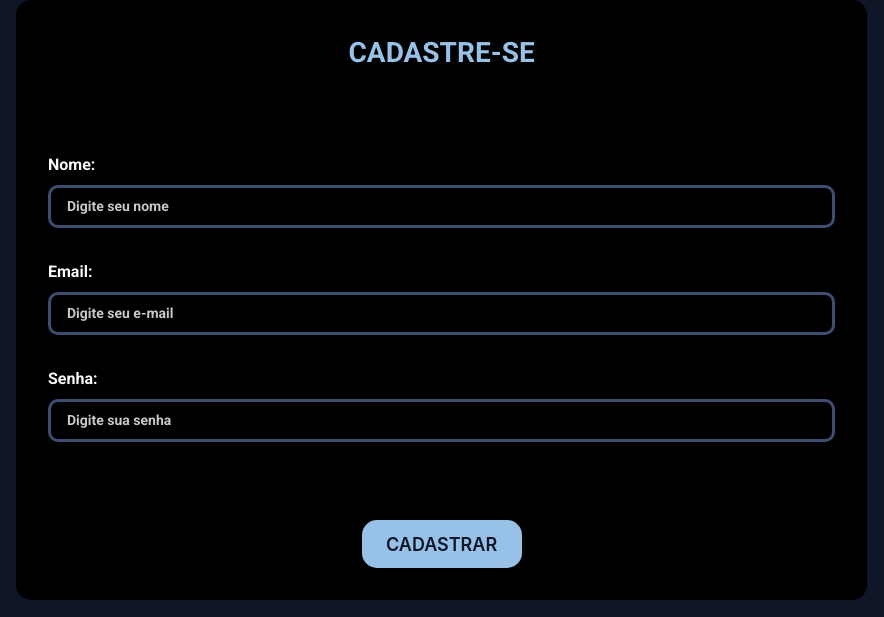
Register Component › should display error message for invalid email
In the field labelled "Nome:": (442, 206) [48,184,835,228], type "Valid Name"
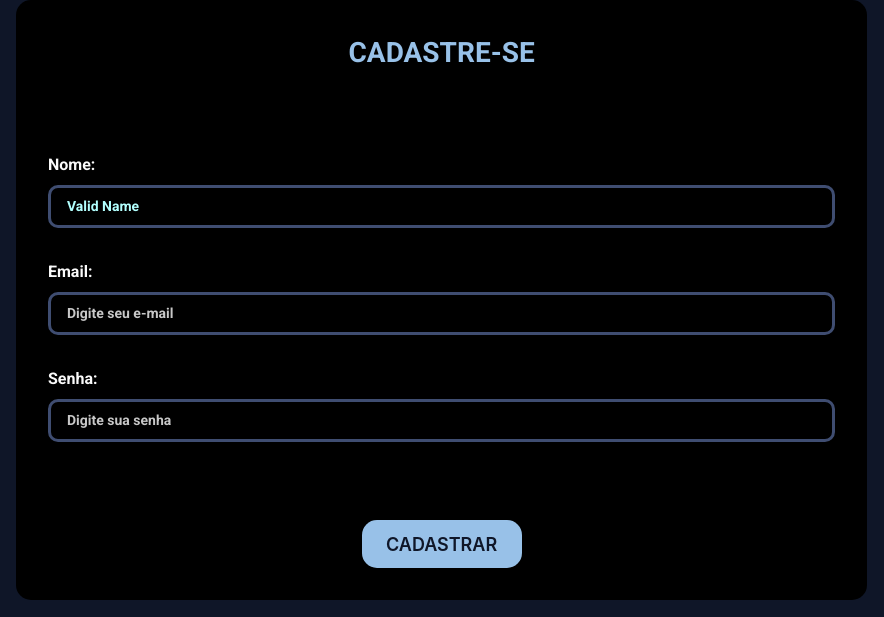
In the field labelled "Email:": (442, 313) [48,292,835,334], type "invalid-email@email.c"
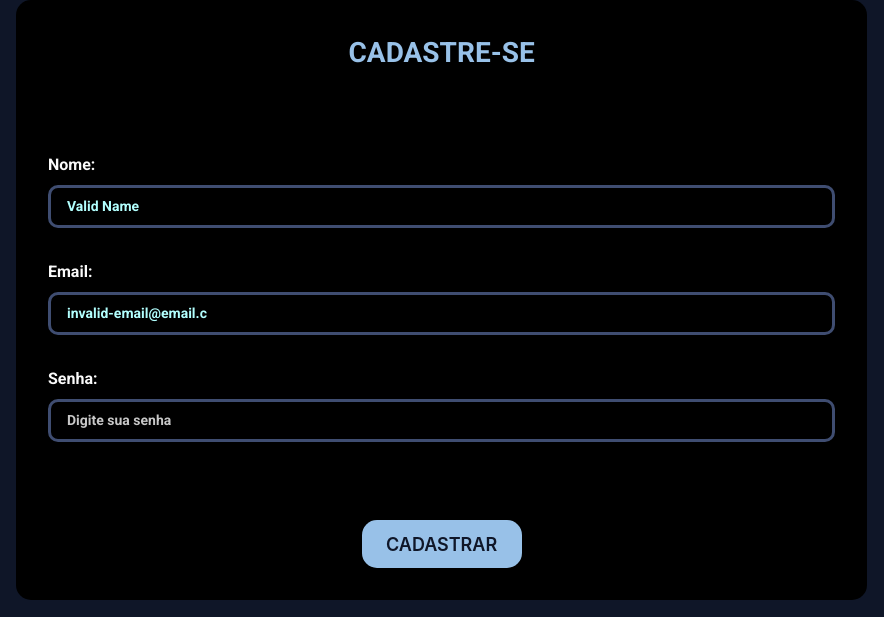
In the password field labelled "Senha:": (442, 420) [48,398,835,442], type "Password1"
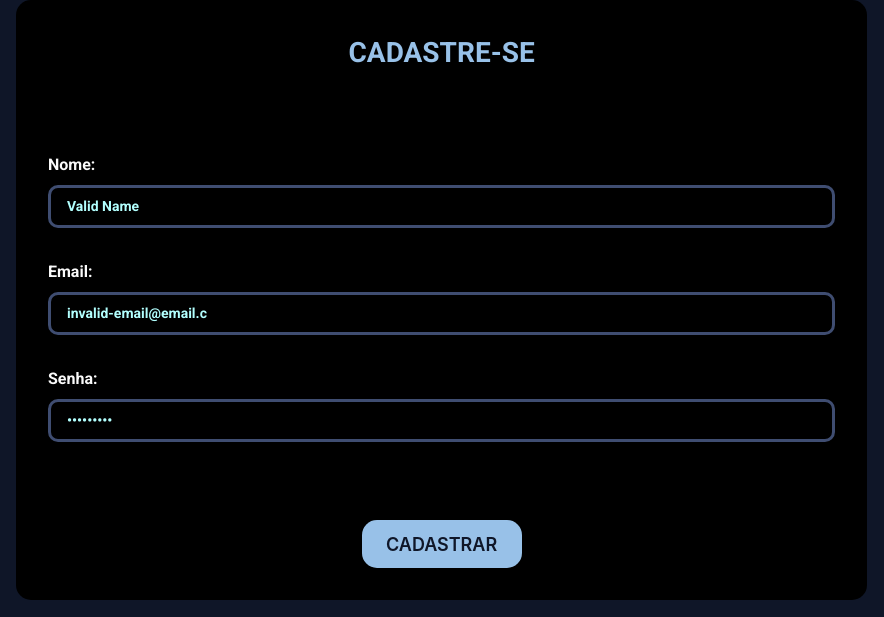
Click the button "CADASTRAR": (442, 544) [362,520,522,568]
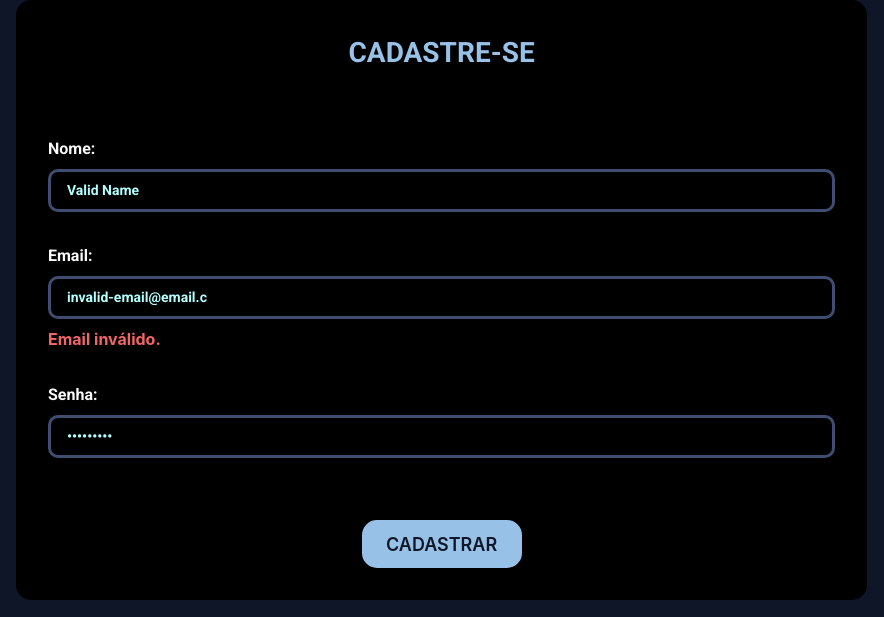
Result: the text "Email inválido." is shown at [48,328,161,348]
